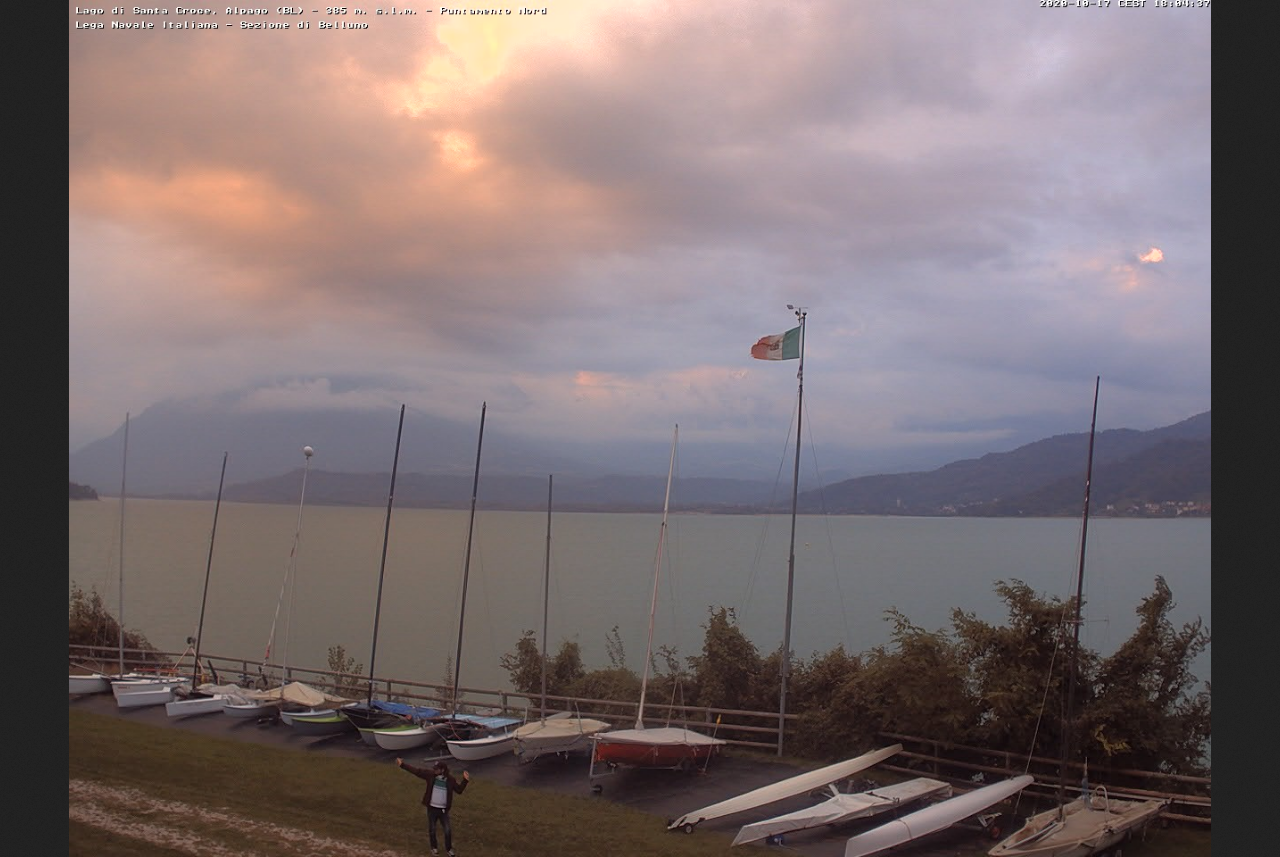yes: (741, 320, 805, 372)
